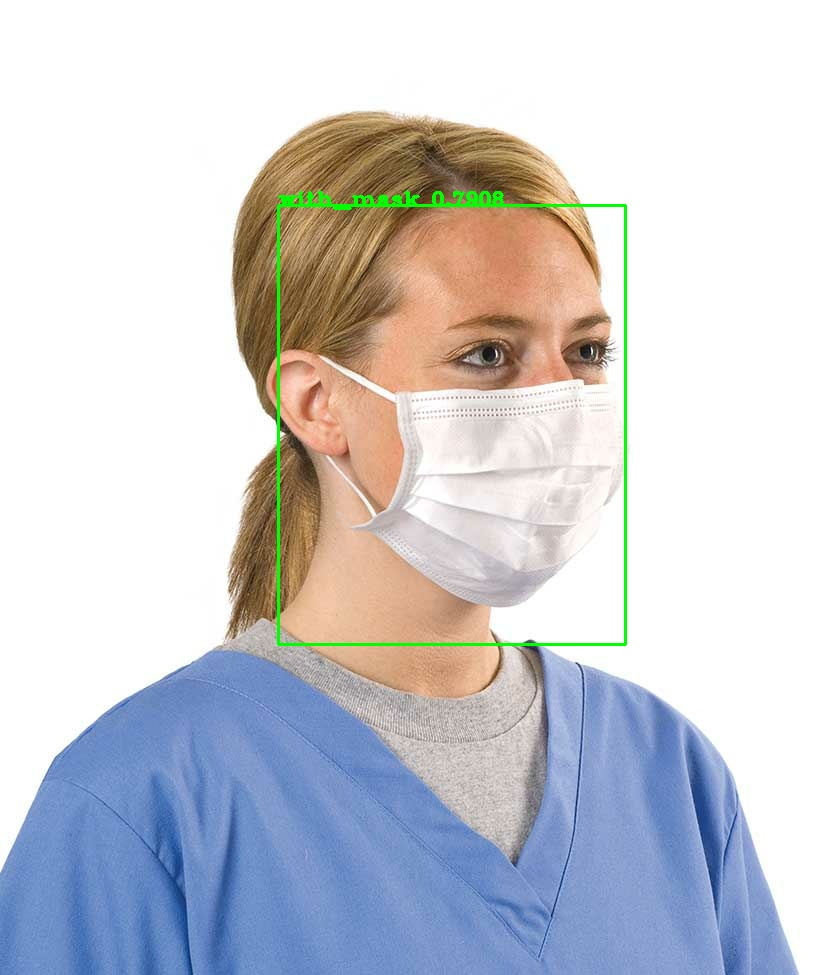with_mask: (235, 193, 644, 638)
